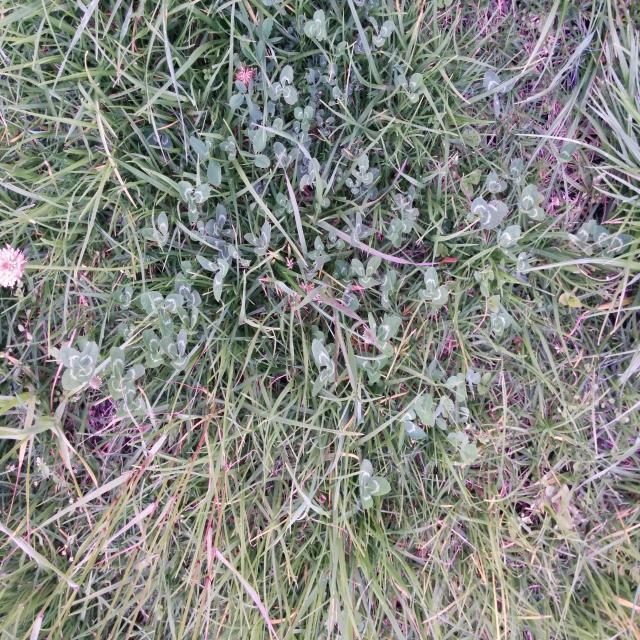Four Leaf Clover: (60, 341, 98, 390)
